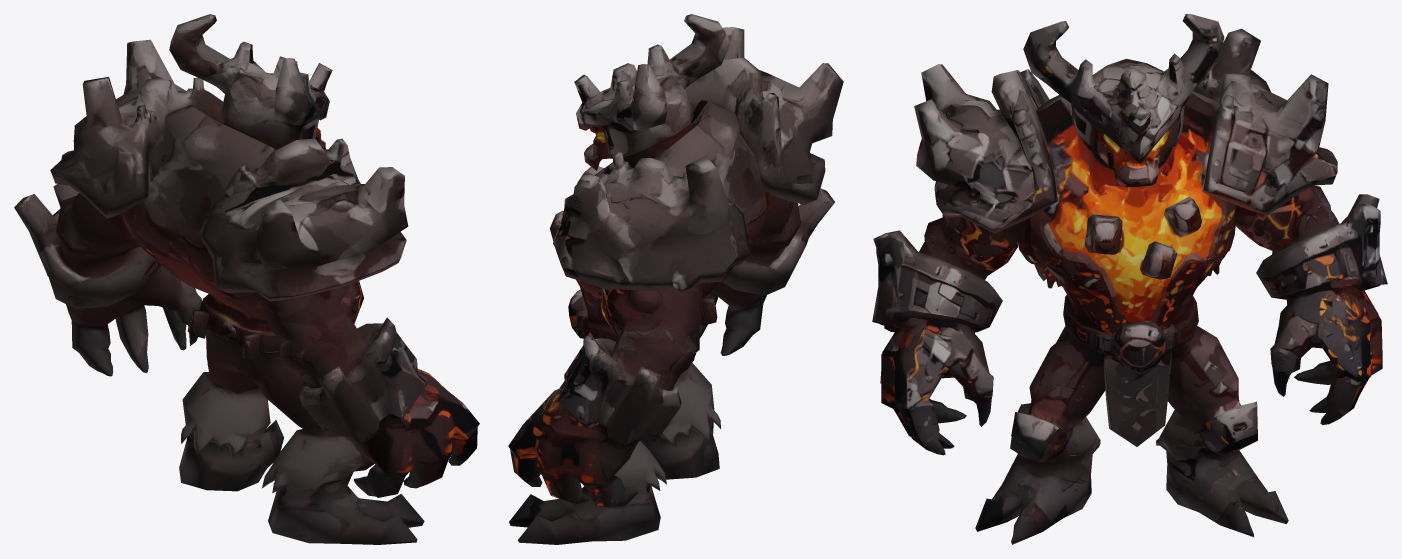
3 views of the same model, side by side, from view 1: azimuth 30°, elevation 25°; view 2: azimuth 150°, elevation 25°; view 3: azimuth 270°, elevation 25° (orthographic). The views are drawn at different scales.
Visible parts, largest first — view 1: tripo_node_580efd93-ebd9-40cf-b937-ffec994452ae; view 2: tripo_node_580efd93-ebd9-40cf-b937-ffec994452ae; view 3: tripo_node_580efd93-ebd9-40cf-b937-ffec994452ae.
Part boxes in pixels (x1,y1,x2,y2): tripo_node_580efd93-ebd9-40cf-b937-ffec994452ae: (14,14,479,544); tripo_node_580efd93-ebd9-40cf-b937-ffec994452ae: (508,14,843,544); tripo_node_580efd93-ebd9-40cf-b937-ffec994452ae: (872,14,1387,544).
Size of the model in its own units: 0.5605 by 0.998 by 0.9863.
Materials: 1 (1 with a texture image).
